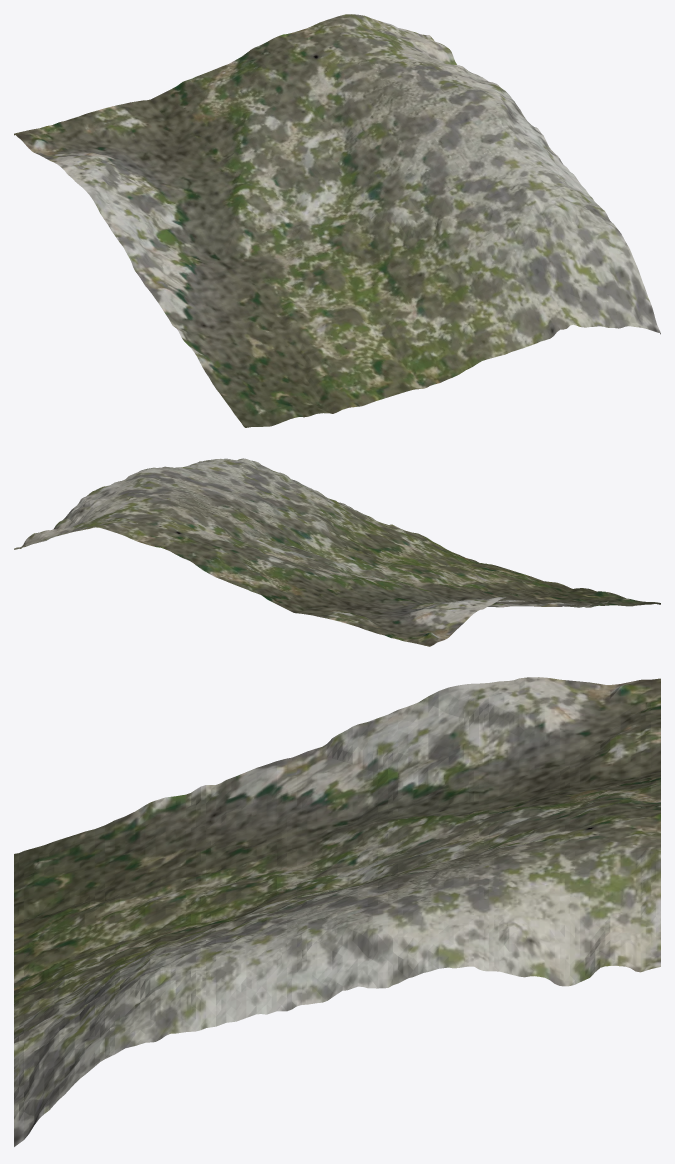
The picture shows the model from 3 angles, top to bottom: view 1: azimuth 30°, elevation 25°; view 2: azimuth 150°, elevation 25°; view 3: azimuth 270°, elevation 25°; orthographic projection. The views are drawn at different scales.
Bounding box in the file's own units: 250 × 99.3 × 241.
1 material, 1 textured.
